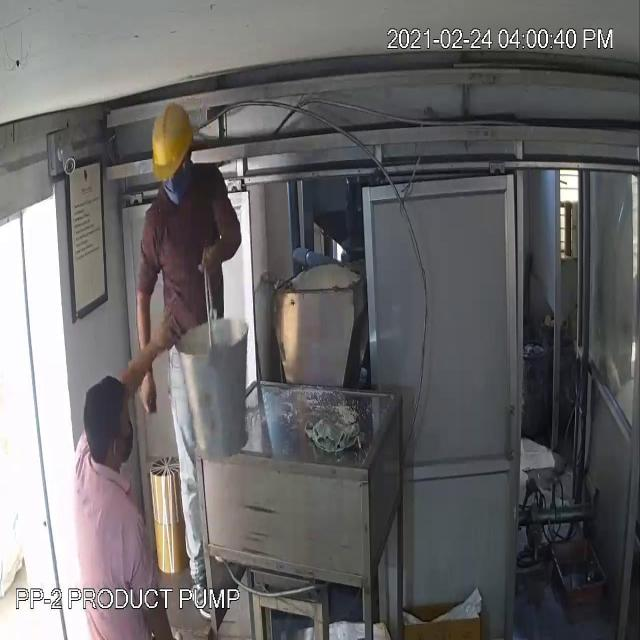helmet: (145, 98, 198, 185)
no-helmet: (79, 368, 142, 444)
